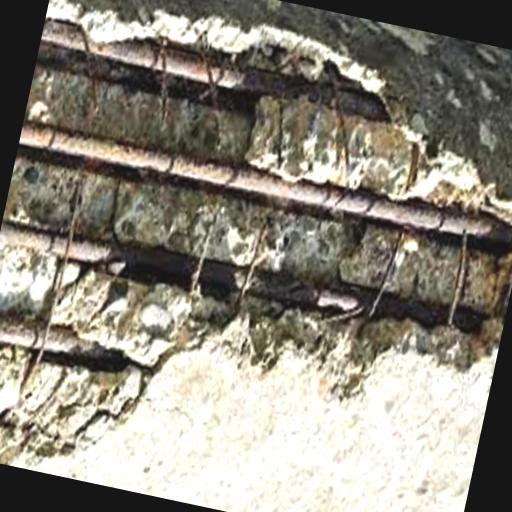spalling: (0, 0, 512, 470)
